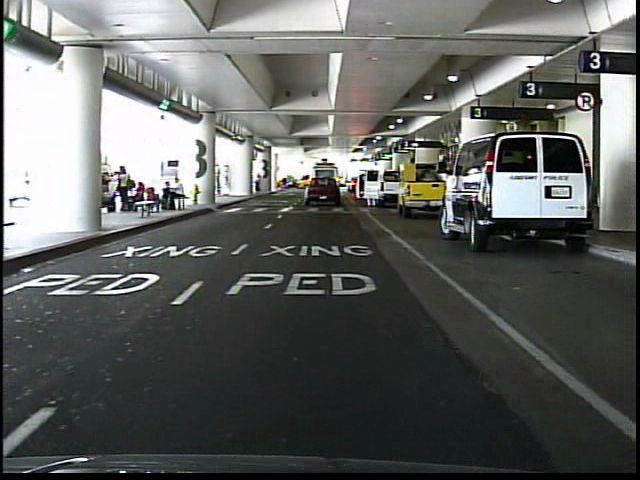person: (255, 171, 266, 195)
